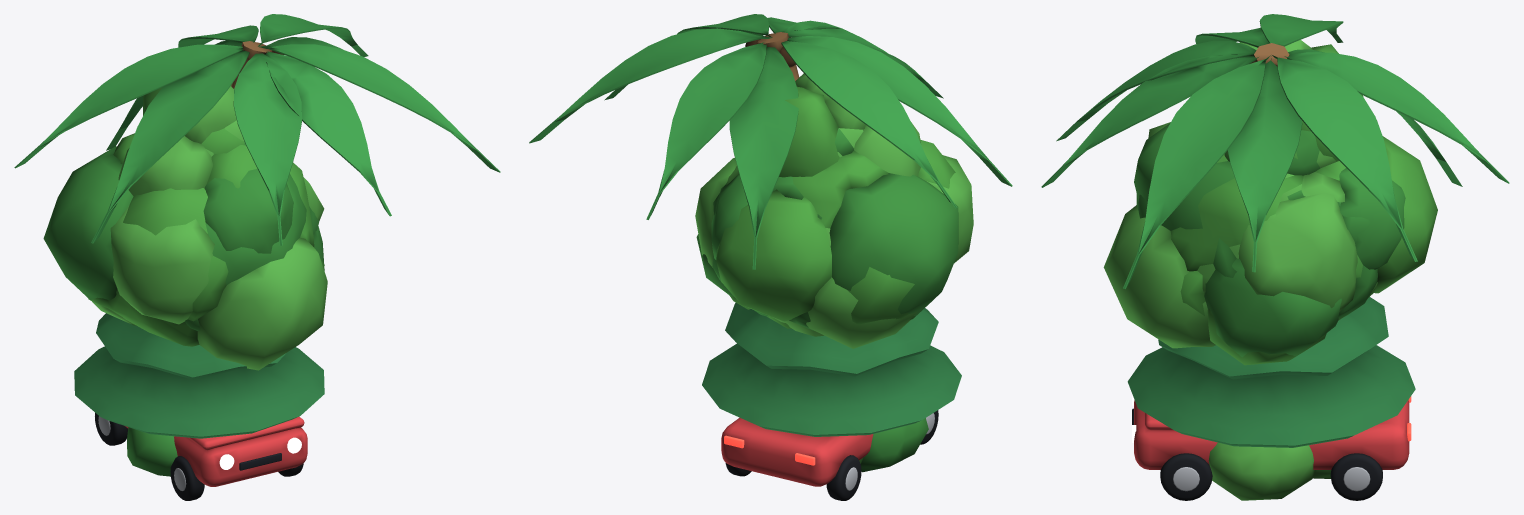
The model's file is nature.glb.
3 views of the same model, side by side, from view 1: azimuth 30°, elevation 25°; view 2: azimuth 150°, elevation 25°; view 3: azimuth 270°, elevation 25° (orthographic). The views are drawn at different scales.
Parts seen in each view (by area): view 1: palm_frond, tree_pine_pine, tree_round_b_leaf_a, tree_round_a_leaf_a, tree_round_b_leaf_c, tree_round_b_leaf_b, tree_round_a_leaf_c, car_player, tree_birch_leaf_a, tree_round_c_leaf_c, bush_leaf_c, car_tyre (+3 smaller); view 2: palm_frond, tree_pine_pine, tree_round_b_leaf_c, tree_round_c_leaf_b, car_player, tree_round_c_leaf_a, tree_round_b_leaf_b, tree_birch_leaf_b, tree_birch_leaf_a, tree_round_a_leaf_b, tree_round_a_leaf_a, bush_leaf_c (+3 smaller); view 3: palm_frond, tree_pine_pine, tree_round_c_leaf_a, tree_round_b_leaf_c, tree_round_b_leaf_a, car_player, tree_round_c_leaf_b, bush_leaf_a, tree_round_b_leaf_b, tree_round_a_leaf_c, tree_round_c_leaf_c, car_tyre (+4 smaller).
Boxes of the visible parts, x1,y1,x2,y2 form: palm_frond: (14, 14, 500, 245); tree_pine_pine: (74, 313, 324, 438); tree_round_b_leaf_a: (197, 237, 327, 370); tree_round_a_leaf_a: (110, 188, 314, 324); tree_round_b_leaf_c: (43, 142, 324, 300); tree_round_b_leaf_b: (88, 133, 314, 346); tree_round_a_leaf_c: (203, 169, 293, 253); car_player: (125, 416, 307, 486); tree_birch_leaf_a: (118, 86, 236, 196); tree_round_c_leaf_c: (132, 173, 319, 330); bush_leaf_c: (127, 427, 177, 476); car_tyre: (95, 413, 303, 500); palm_frond: (529, 14, 1012, 269); tree_pine_pine: (702, 303, 961, 436); tree_round_b_leaf_c: (696, 128, 958, 315); tree_round_c_leaf_b: (716, 189, 831, 321); car_player: (721, 417, 873, 486); tree_round_c_leaf_a: (695, 128, 917, 348); tree_round_b_leaf_b: (712, 139, 955, 328); tree_birch_leaf_b: (779, 86, 839, 177); tree_birch_leaf_a: (795, 73, 920, 176); tree_round_a_leaf_b: (729, 267, 914, 324); tree_round_a_leaf_a: (726, 155, 973, 336); bush_leaf_c: (860, 418, 928, 472); palm_frond: (1041, 14, 1509, 288); tree_pine_pine: (1127, 297, 1415, 447); tree_round_c_leaf_a: (1224, 151, 1357, 311); tree_round_b_leaf_c: (1204, 121, 1378, 357); tree_round_b_leaf_a: (1103, 205, 1215, 348); car_player: (1134, 400, 1409, 469); tree_round_c_leaf_b: (1180, 136, 1437, 315); bush_leaf_a: (1208, 442, 1331, 500); tree_round_b_leaf_b: (1170, 161, 1362, 277); tree_round_a_leaf_c: (1134, 123, 1405, 269); tree_round_c_leaf_c: (1136, 161, 1377, 319); car_tyre: (1160, 453, 1382, 500).
Size of the model in its own units: 3.69 by 3.69 by 3.4.
